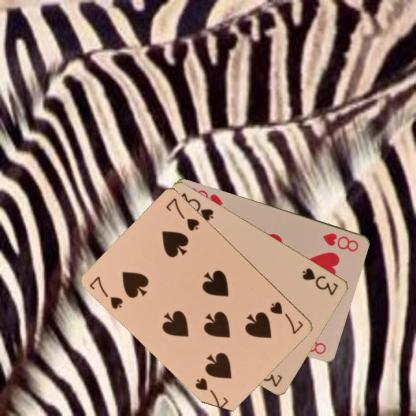3s: (299, 264, 340, 296)
7s: (86, 273, 124, 311), (268, 298, 305, 336)
8h: (320, 230, 360, 253)
